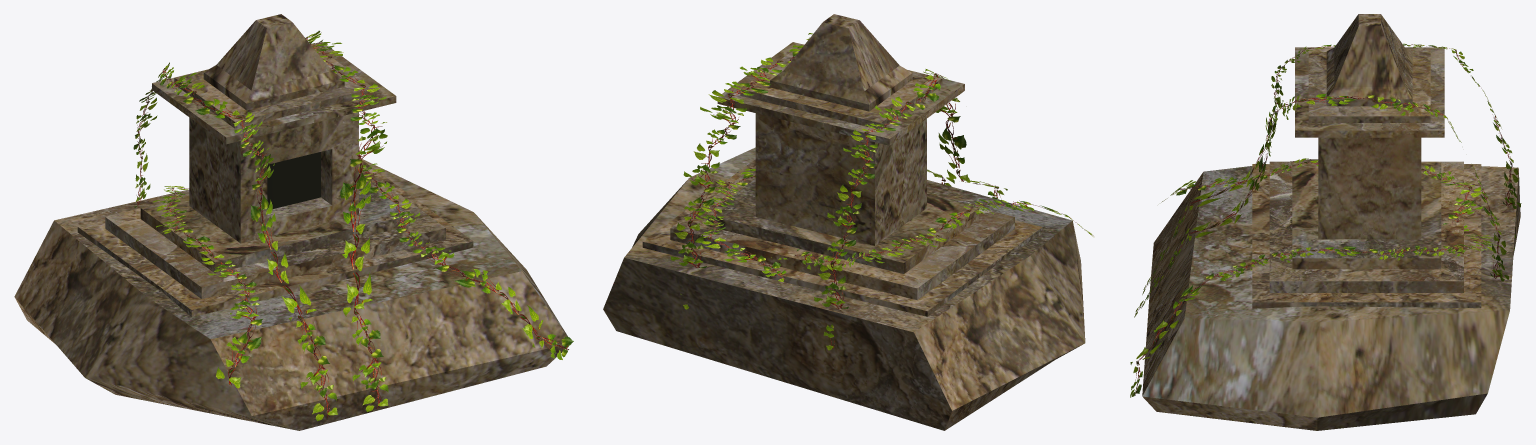
File: temple 6.fbx
The picture shows the model from 3 angles, left to right: view 1: azimuth 30°, elevation 25°; view 2: azimuth 150°, elevation 25°; view 3: azimuth 270°, elevation 25°; orthographic projection.
Parts seen in each view (by area): view 1: temple_6, vine_40, vine_41, vine_39, vine_42; view 2: temple_6, vine_40, vine_41, vine_42, vine_39; view 3: temple_6, vine_41, vine_39, vine_40, vine_42.
Boxes of the visible parts, x1,y1,x2,y2 form: temple_6: (14,14,567,430); vine_40: (133,62,337,421); vine_41: (305,30,388,411); vine_39: (359,163,573,359); vine_42: (153,186,262,388); temple_6: (603,14,1085,430); vine_40: (814,69,1007,350); vine_41: (670,33,954,309); vine_42: (771,199,1093,270); vine_39: (695,168,786,281); temple_6: (1142,14,1520,430); vine_41: (1134,93,1508,317); vine_39: (1130,234,1499,397); vine_40: (1142,43,1521,294); vine_42: (1161,158,1482,236).
Bounding box in the file's own units: 35.19 × 23.56 × 27.25.
